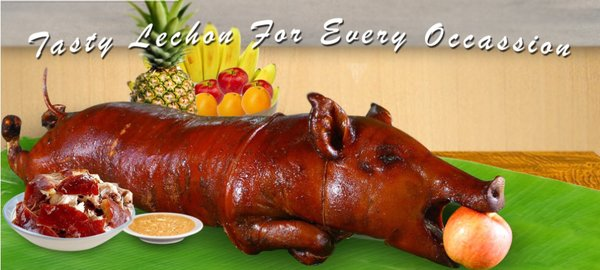sushi: (3, 169, 135, 252), (125, 211, 204, 245)
taco: (241, 85, 271, 115)
